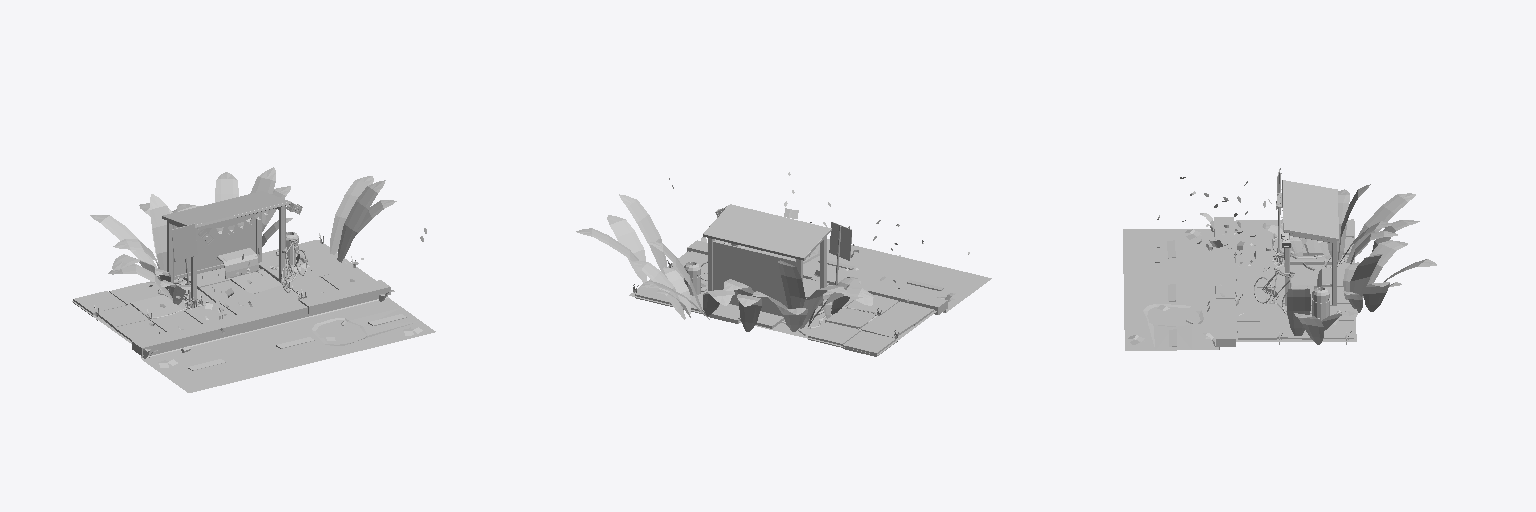
Rendered from house.obj.
3 views of the same model, side by side, from view 1: azimuth 30°, elevation 25°; view 2: azimuth 150°, elevation 25°; view 3: azimuth 270°, elevation 25° (orthographic).
Visible parts, largest first — view 1: polySurface240_Mesh.001; view 2: polySurface240_Mesh.001; view 3: polySurface240_Mesh.001.
Part boxes in pixels (bbox=[...]): polySurface240_Mesh.001: bbox=[72, 167, 435, 392]; polySurface240_Mesh.001: bbox=[576, 172, 991, 356]; polySurface240_Mesh.001: bbox=[1123, 168, 1436, 350].
Size of the model in its own units: 3.25 by 0.9782 by 2.87.